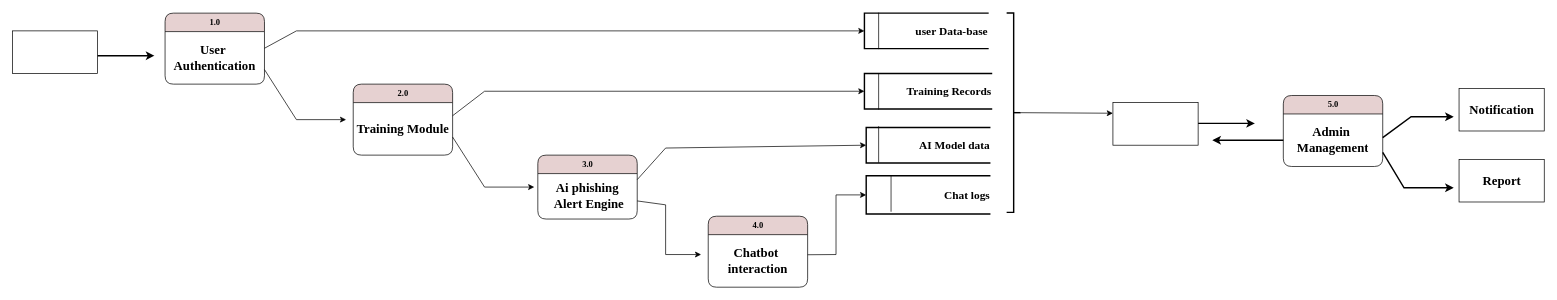
This 1557x300 diagram has some shape labels left out. The shapes that lost their labels are listed below. From the top down, each one's centre as x and y in pixels, then its label:
At (55,51): "Users (Employee s, Trainer s )".
At (1155,123): "Admin".
